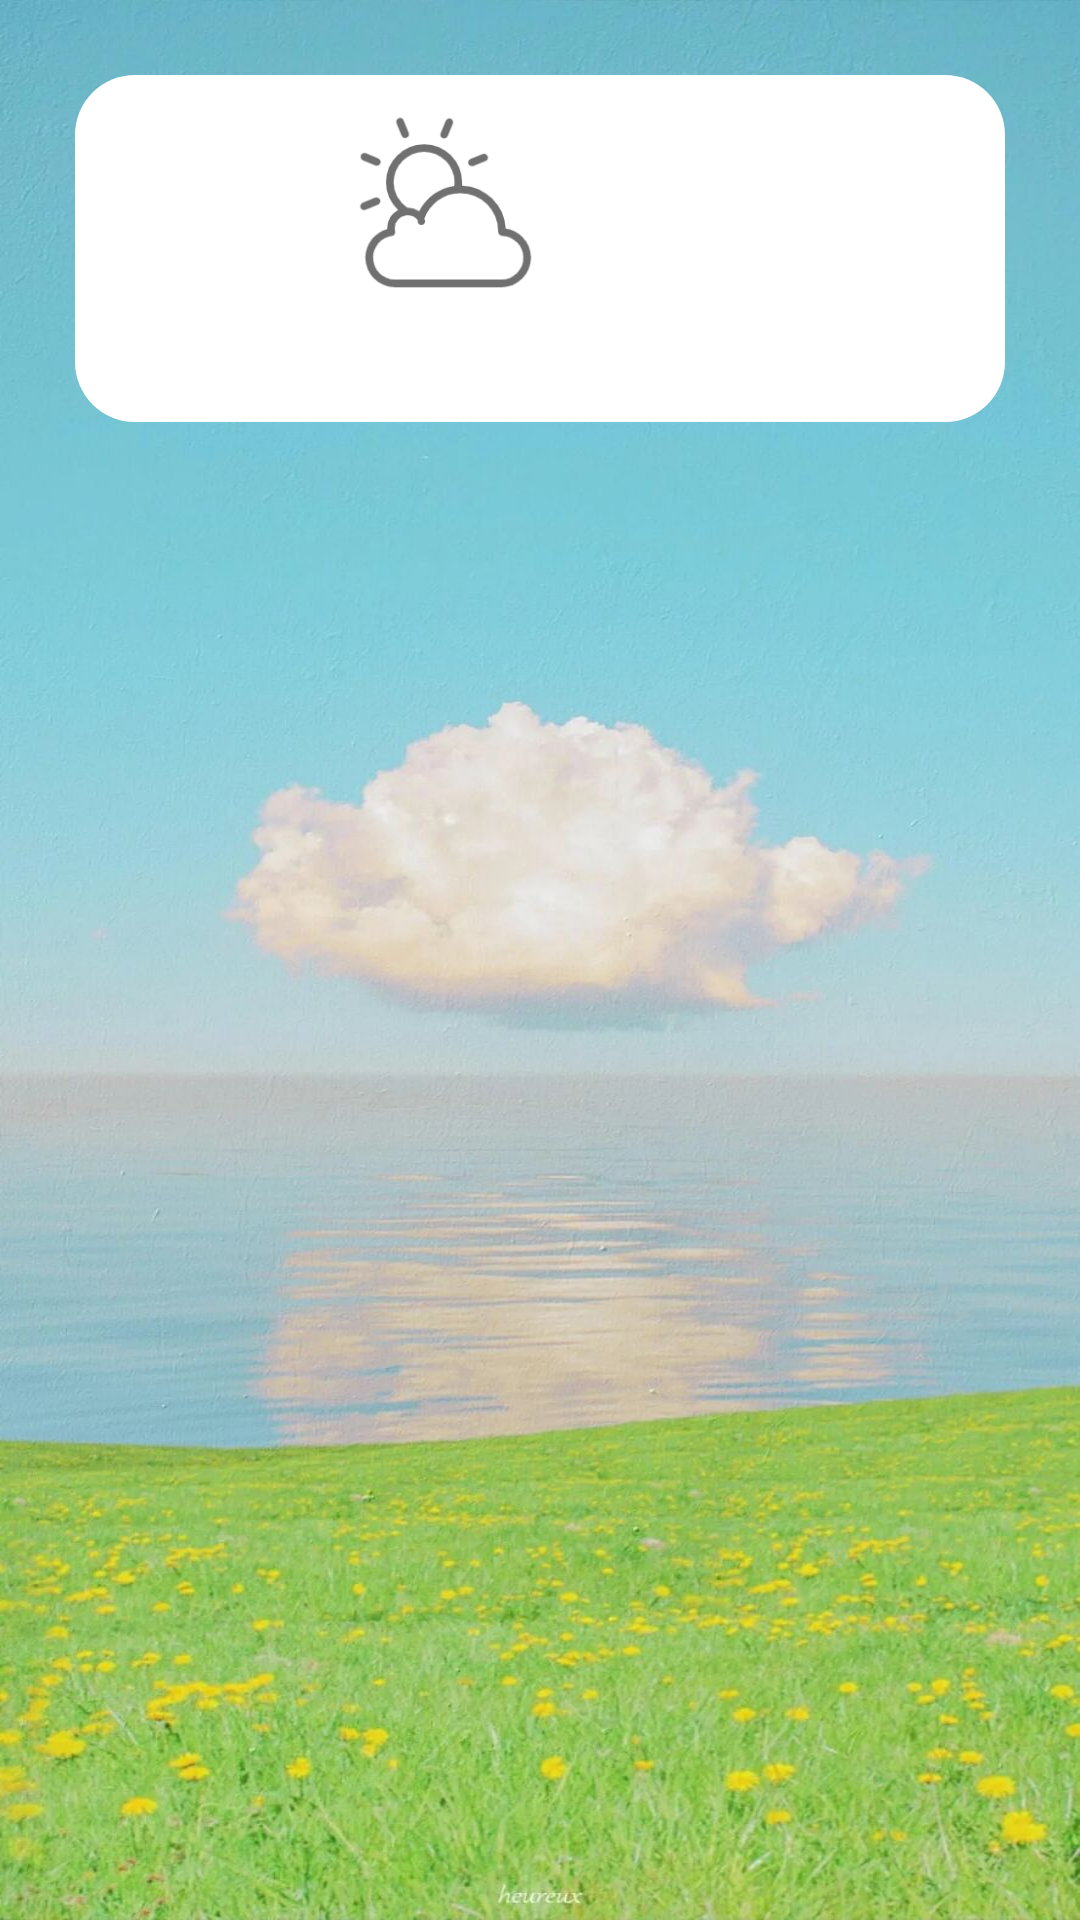

Where to tap for icons on this 1080px x 1920px app screen, as [x,y]:
weather: [446,202]
